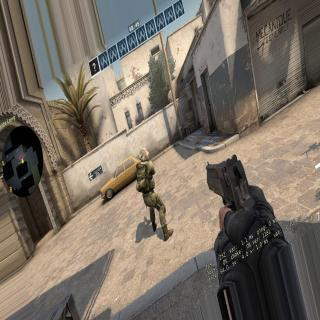CT-Body: (132, 142, 171, 240)
CT-Head: (138, 146, 150, 162)
